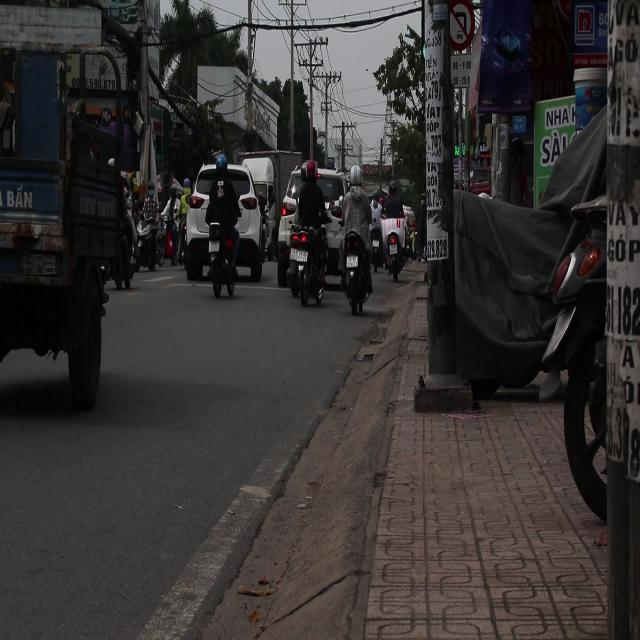car: (178, 154, 260, 284)
motorbike: (280, 171, 333, 306), (200, 182, 241, 304), (130, 185, 168, 278), (378, 199, 408, 296), (342, 232, 376, 316)
truck: (0, 11, 147, 416), (237, 153, 286, 262)
